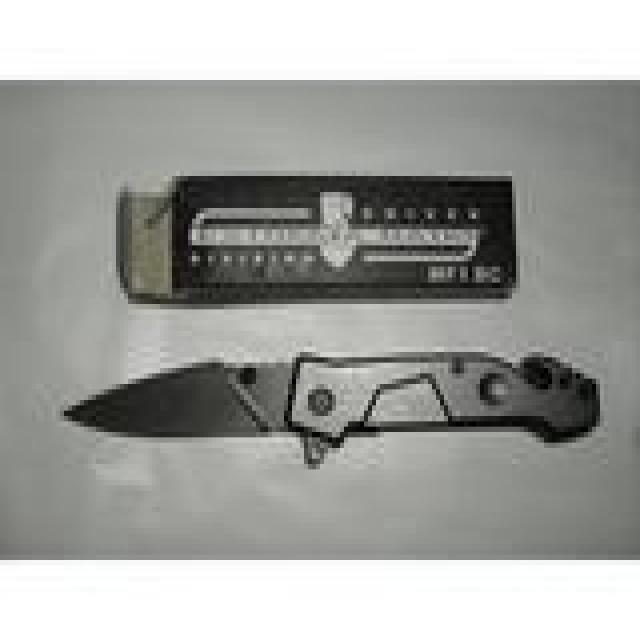Knife: (50, 345, 606, 476)
